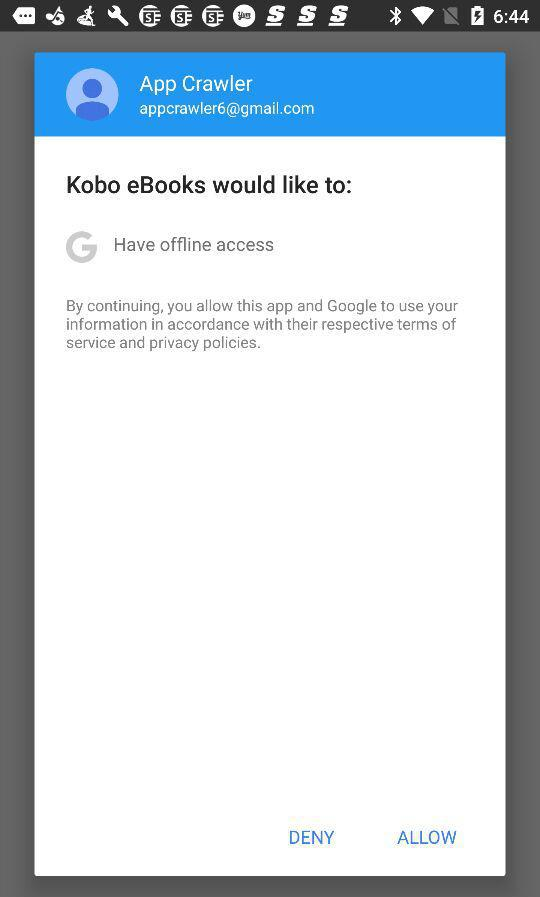Icon: (66, 68, 120, 121)
Modal: (34, 53, 507, 877)
Text: (66, 298, 459, 353), (67, 173, 353, 196), (140, 101, 315, 120), (114, 235, 275, 254), (139, 75, 254, 97), (66, 231, 99, 265), (396, 829, 458, 845), (290, 829, 335, 846)
UpperTaskBar: (1, 1, 540, 33)
